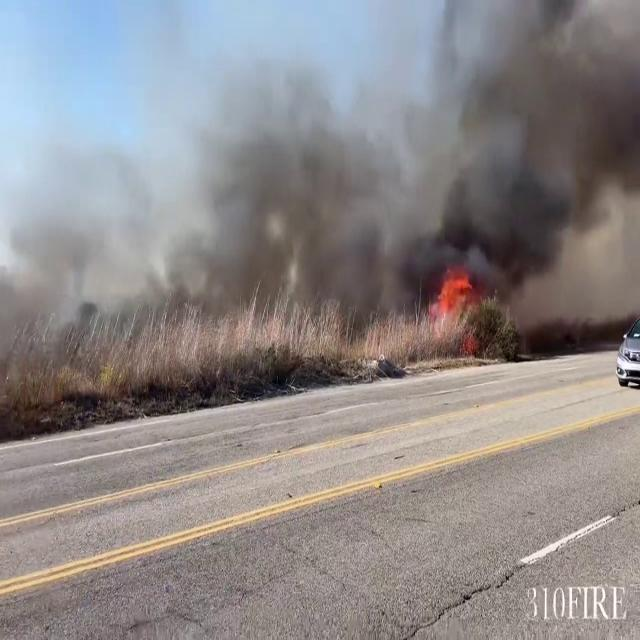Fire: (426, 262, 480, 324)
Smoke: (0, 52, 420, 376), (407, 0, 640, 318)
